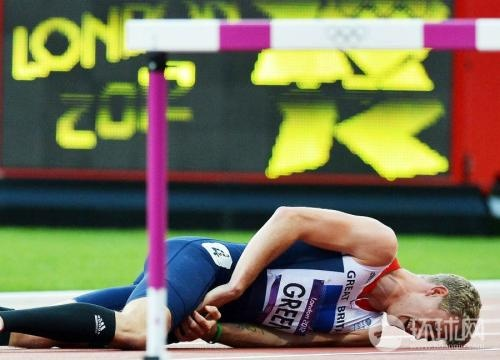falling: (3, 195, 488, 353)
